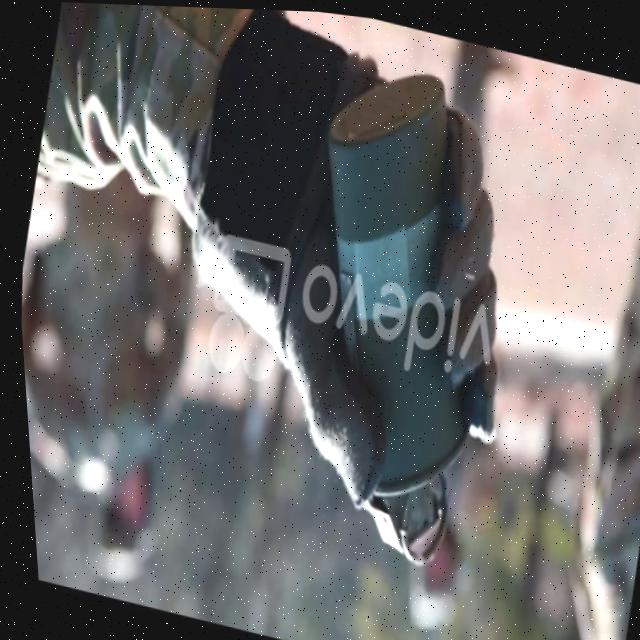grenade: (231, 41, 555, 593)
